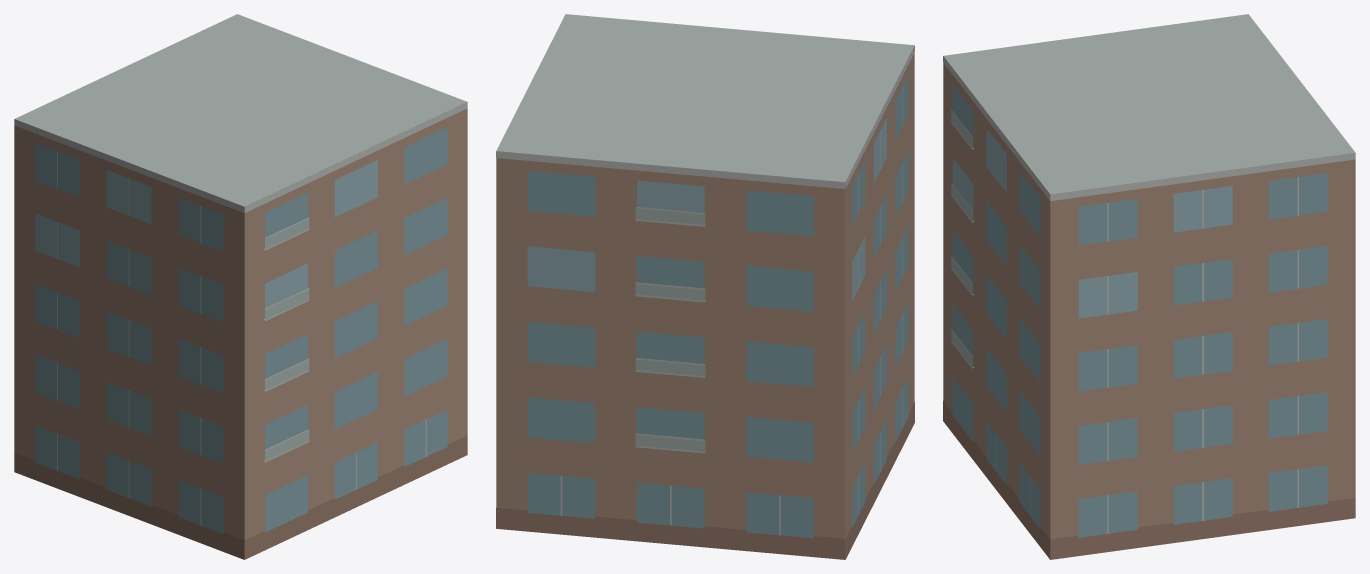
File: survey-upis-32611875.glb
The picture shows the model from 3 angles, left to right: view 1: azimuth 30°, elevation 25°; view 2: azimuth 150°, elevation 25°; view 3: azimuth 270°, elevation 25°; orthographic projection. The views are drawn at different scales.
Visible parts, largest first — view 1: survey-upis-32611875.tmp; view 2: survey-upis-32611875.tmp; view 3: survey-upis-32611875.tmp.
Boxes of the visible parts, x1,y1,x2,y2 form: survey-upis-32611875.tmp: (14,14,467,559); survey-upis-32611875.tmp: (496,14,914,559); survey-upis-32611875.tmp: (943,14,1355,559).
Bounding box in the file's own units: 14.21 × 13.4 × 13.72.
